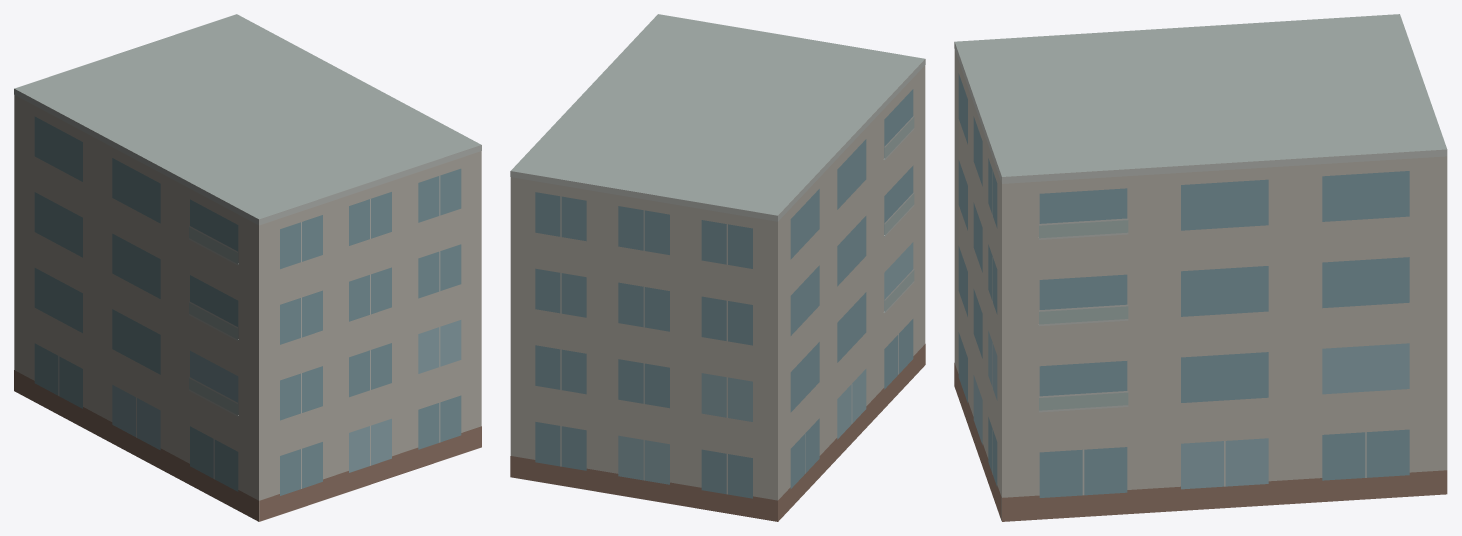
The model's file is survey-upis-32980584.glb.
3 views of the same model, side by side, from view 1: azimuth 30°, elevation 25°; view 2: azimuth 150°, elevation 25°; view 3: azimuth 270°, elevation 25° (orthographic). The views are drawn at different scales.
Visible parts, largest first — view 1: survey-upis-32980584.tmp; view 2: survey-upis-32980584.tmp; view 3: survey-upis-32980584.tmp.
Part boxes in pixels (x1,y1,x2,y2): survey-upis-32980584.tmp: [14, 14, 481, 521]; survey-upis-32980584.tmp: [510, 14, 925, 521]; survey-upis-32980584.tmp: [954, 14, 1447, 521].
Size of the model in its own units: 12.38 by 12.2 by 15.81.
